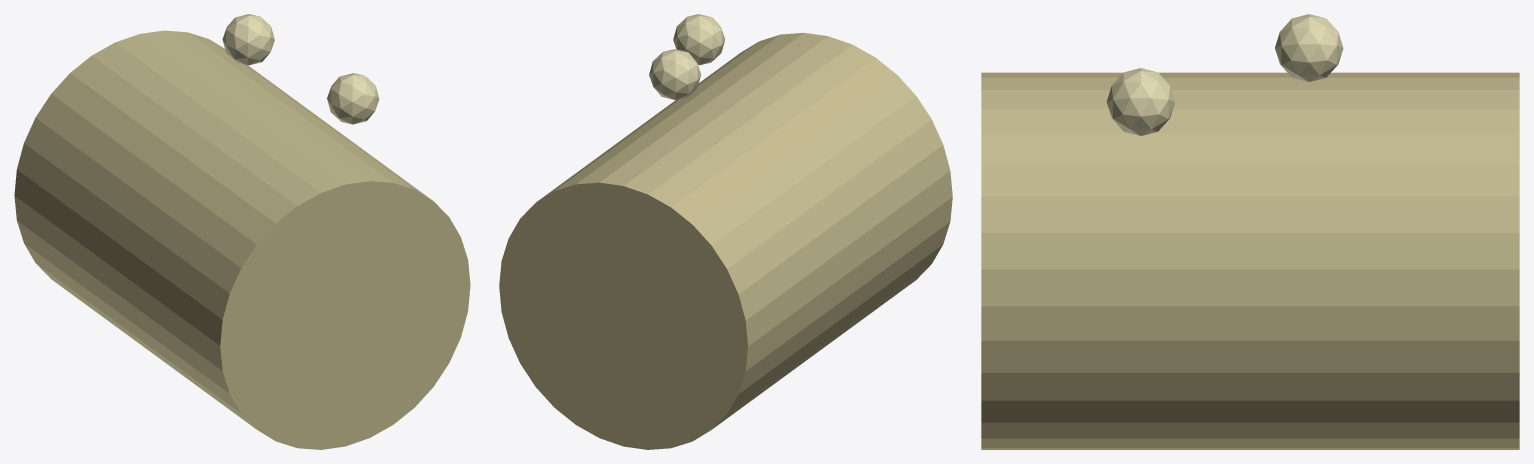
The model's file is eternity_spawn.glb.
3 renders of one model, left to right at view 1: azimuth 30°, elevation 25°; view 2: azimuth 150°, elevation 25°; view 3: azimuth 270°, elevation 25°, orthographic. The views are drawn at different scales.
Parts seen in each view (by area): view 1: geometry_0; view 2: geometry_0; view 3: geometry_0.
Boxes of the visible parts, x1,y1,x2,y2 form: geometry_0: (14, 14, 470, 449); geometry_0: (499, 14, 952, 449); geometry_0: (981, 14, 1519, 449).
Size of the model in its own units: 0.66 by 0.8362 by 0.94.
